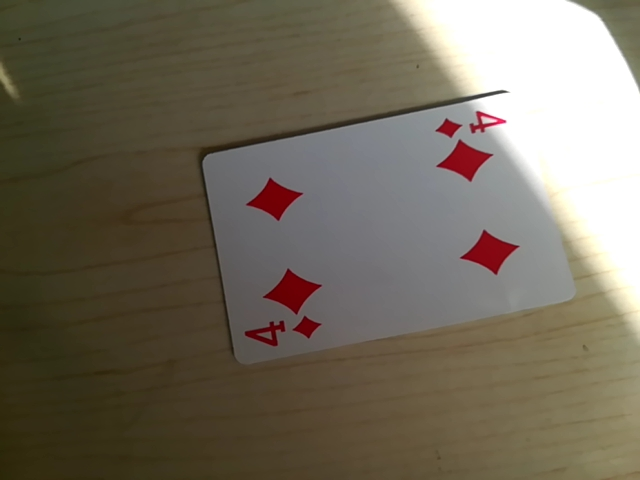fk 4: (238, 315, 325, 357), (437, 100, 509, 141)
